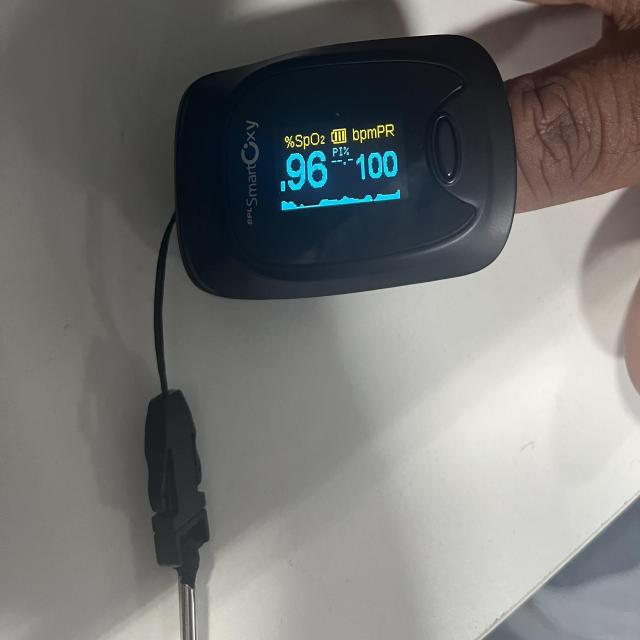spo2: (174, 35, 519, 302)
